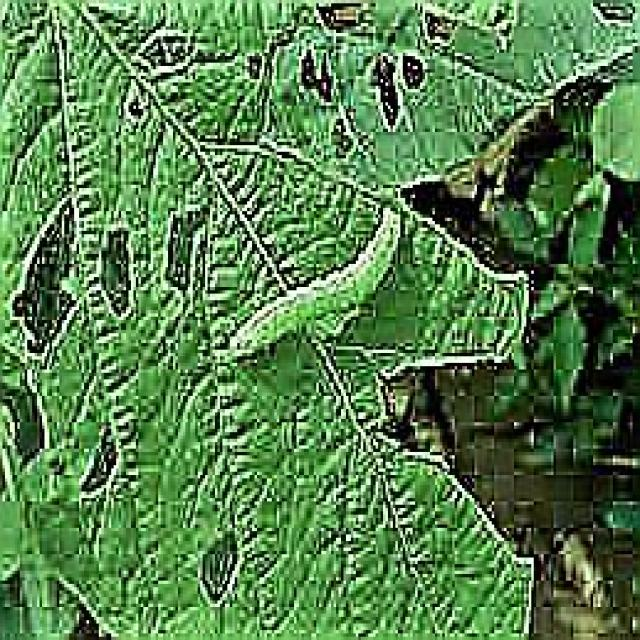Armyworm: (218, 184, 431, 397)
Armyworm_damage: (14, 198, 88, 368), (88, 226, 146, 360), (178, 519, 251, 614), (72, 415, 128, 525)
